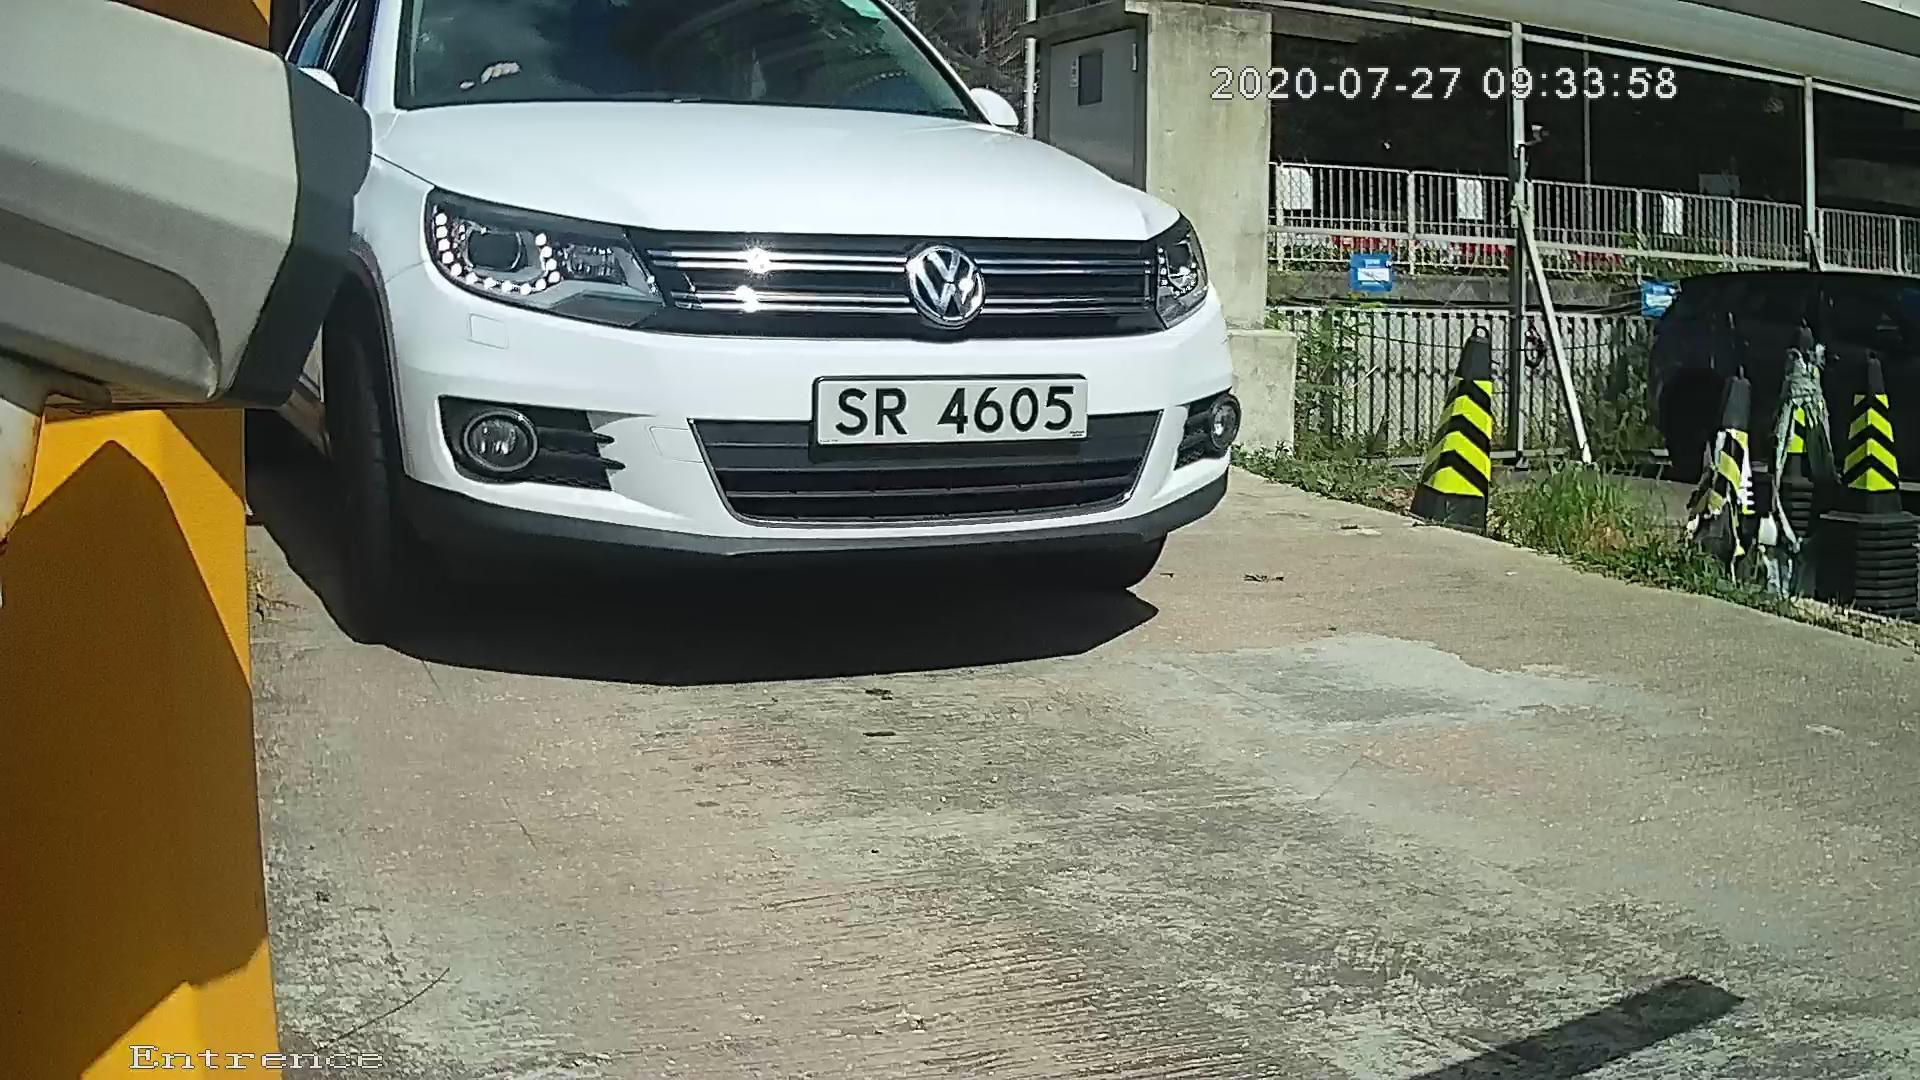License Plate: (772, 357, 1115, 454)
